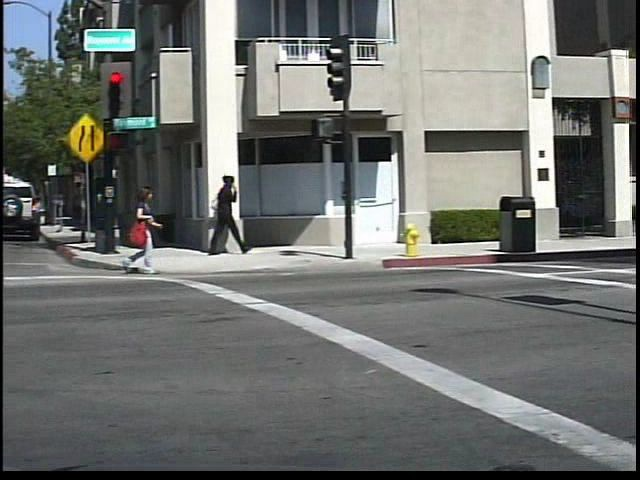person: (124, 181, 175, 275), (210, 169, 254, 257)
